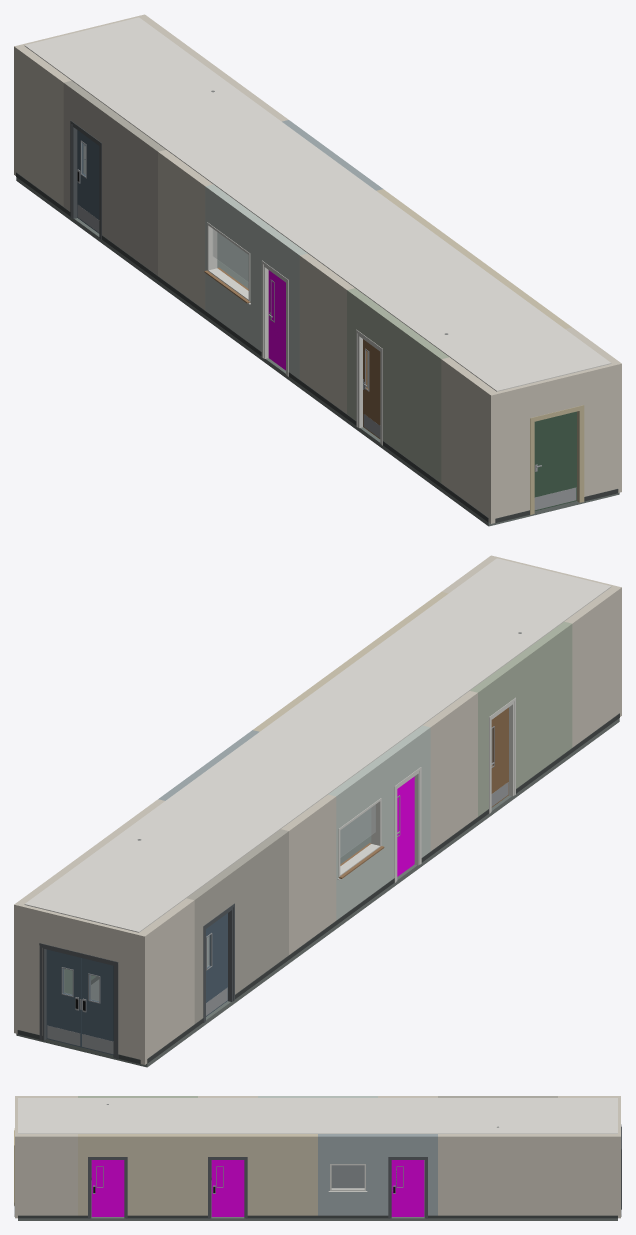
Rendered from ENV_ClinicalCorridor_20m.glb.
The picture shows the model from 3 angles, top to bottom: view 1: azimuth 30°, elevation 25°; view 2: azimuth 150°, elevation 25°; view 3: azimuth 270°, elevation 25°; orthographic projection. The views are drawn at different scales.
Parts seen in each view (by area): view 1: ENV_ClinicalCorridor_20m_Architecture, ENV_ClinicalCorridor_20m_Ceiling, DOOR_Service_Historic_1200_Leaf, DOOR_Secure_Single_1200_Leaf, DOOR_Interior_Single_1000_Leaf, DOOR_Interior_Single_1000_Leaf_COL-colonly.001, DOOR_Service_Historic_1200_Frame, DOOR_Secure_Single_1200_Frame, DOOR_Interior_Single_1000_Frame.001, DOOR_Interior_Single_1000_Frame; view 2: ENV_ClinicalCorridor_20m_Architecture, ENV_ClinicalCorridor_20m_Ceiling, DOOR_Secure_Double_1800_Leaf_R, DOOR_Secure_Double_1800_Leaf_L, DOOR_Secure_Single_1200_Leaf, DOOR_Secure_Double_1800_Frame, DOOR_Interior_Single_1000_Leaf, DOOR_Interior_Single_1000_Leaf_COL-colonly.001, DOOR_Interior_Single_1000_Frame.001, DOOR_Secure_Single_1200_Frame, DOOR_Interior_Single_1000_Frame; view 3: ENV_ClinicalCorridor_20m_Architecture, ENV_ClinicalCorridor_20m_Ceiling, DOOR_Secure_Single_1200_Leaf_COL-colonly.003, DOOR_Secure_Single_1200_Leaf_COL-colonly.001, DOOR_Secure_Single_1200_Leaf_COL-colonly.002, DOOR_Secure_Single_1200_Frame.003, DOOR_Secure_Single_1200_Frame.001, DOOR_Secure_Single_1200_Frame.002.
Part boxes in pixels (<box>): ENV_ClinicalCorridor_20m_Architecture: <box>14,14,621,526</box>; ENV_ClinicalCorridor_20m_Ceiling: <box>24,17,611,391</box>; DOOR_Service_Historic_1200_Leaf: <box>534,411,576,510</box>; DOOR_Secure_Single_1200_Leaf: <box>77,130,99,233</box>; DOOR_Interior_Single_1000_Leaf: <box>363,339,380,438</box>; DOOR_Interior_Single_1000_Leaf_COL-colonly.001: <box>268,270,285,370</box>; DOOR_Service_Historic_1200_Frame: <box>530,405,584,514</box>; DOOR_Secure_Single_1200_Frame: <box>70,120,101,239</box>; DOOR_Interior_Single_1000_Frame.001: <box>261,260,288,376</box>; DOOR_Interior_Single_1000_Frame: <box>356,329,382,445</box>; ENV_ClinicalCorridor_20m_Architecture: <box>14,555,621,1067</box>; ENV_ClinicalCorridor_20m_Ceiling: <box>24,558,611,932</box>; DOOR_Secure_Double_1800_Leaf_R: <box>46,949,81,1047</box>; DOOR_Secure_Double_1800_Leaf_L: <box>81,958,113,1054</box>; DOOR_Secure_Single_1200_Leaf: <box>206,913,227,1016</box>; DOOR_Secure_Double_1800_Frame: <box>39,943,118,1058</box>; DOOR_Interior_Single_1000_Leaf: <box>491,707,508,807</box>; DOOR_Interior_Single_1000_Leaf_COL-colonly.001: <box>397,776,414,876</box>; DOOR_Interior_Single_1000_Frame.001: <box>394,767,421,882</box>; DOOR_Secure_Single_1200_Frame: <box>203,903,234,1022</box>; DOOR_Interior_Single_1000_Frame: <box>489,697,515,813</box>; ENV_ClinicalCorridor_20m_Architecture: <box>14,1096,621,1220</box>; ENV_ClinicalCorridor_20m_Ceiling: <box>18,1098,617,1133</box>; DOOR_Secure_Single_1200_Leaf_COL-colonly.003: <box>391,1160,424,1216</box>; DOOR_Secure_Single_1200_Leaf_COL-colonly.001: <box>91,1160,124,1216</box>; DOOR_Secure_Single_1200_Leaf_COL-colonly.002: <box>211,1160,244,1216</box>; DOOR_Secure_Single_1200_Frame.003: <box>388,1157,427,1218</box>; DOOR_Secure_Single_1200_Frame.001: <box>88,1157,127,1218</box>; DOOR_Secure_Single_1200_Frame.002: <box>208,1157,247,1218</box>.
Size of what is drawn, in the model's own units: 3.32 by 3.13 by 20.26.
